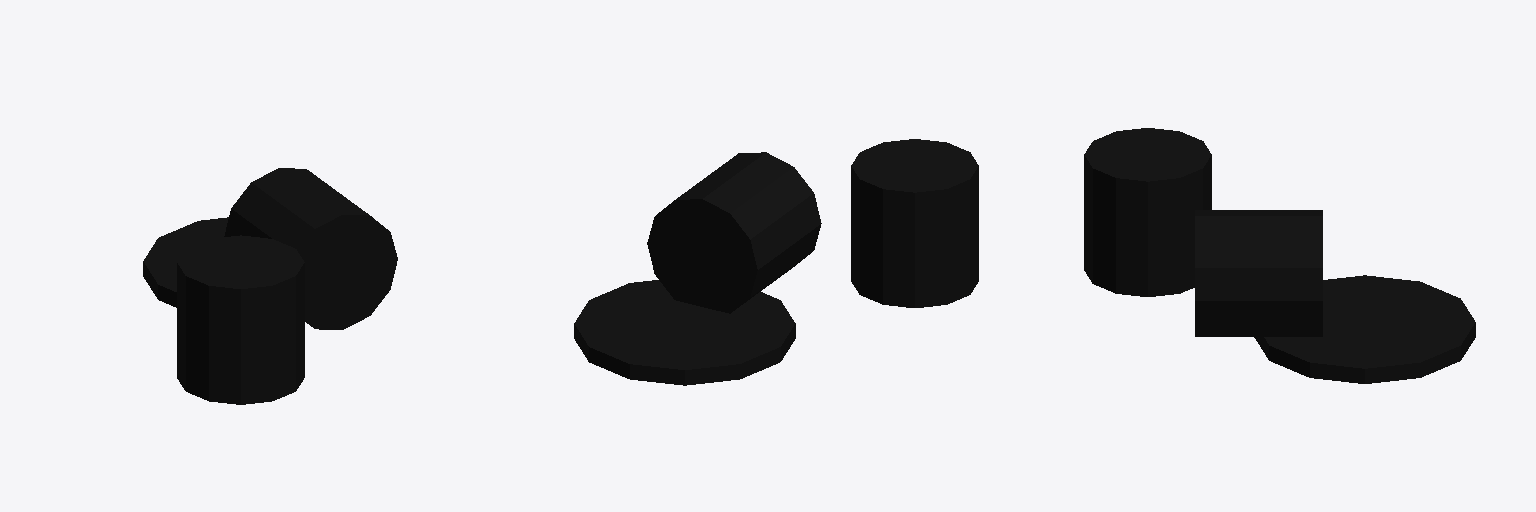
File: Industrial - Paint.obj
The picture shows the model from 3 angles: view 1: azimuth 30°, elevation 25°; view 2: azimuth 150°, elevation 25°; view 3: azimuth 270°, elevation 25°; orthographic projection.
Visible parts, largest first — view 1: group[number redacted], group[number redacted], group[number redacted]; view 2: group[number redacted], group[number redacted], group[number redacted]; view 3: group[number redacted], group[number redacted], group[number redacted].
Boxes of the visible parts, box(x1,y1,x2,y2) form: group[number redacted]: box(177, 235, 304, 404); group[number redacted]: box(224, 168, 397, 329); group[number redacted]: box(143, 217, 228, 307); group[number redacted]: box(851, 139, 978, 307); group[number redacted]: box(647, 152, 821, 313); group[number redacted]: box(574, 280, 795, 385); group[number redacted]: box(1084, 128, 1211, 296); group[number redacted]: box(1195, 210, 1322, 336); group[number redacted]: box(1254, 275, 1475, 383).
Bounding box in the file's own units: 0.37 × 0.16 × 0.46.